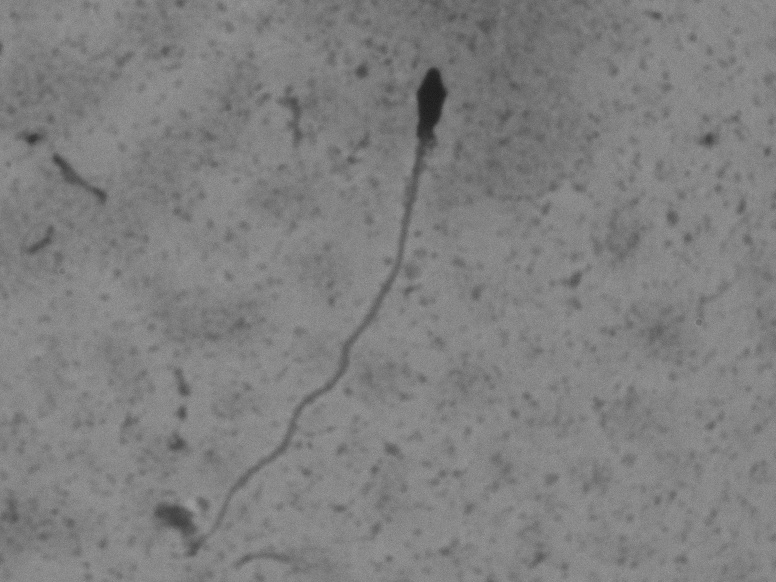Abnormal: (155, 43, 469, 562)
